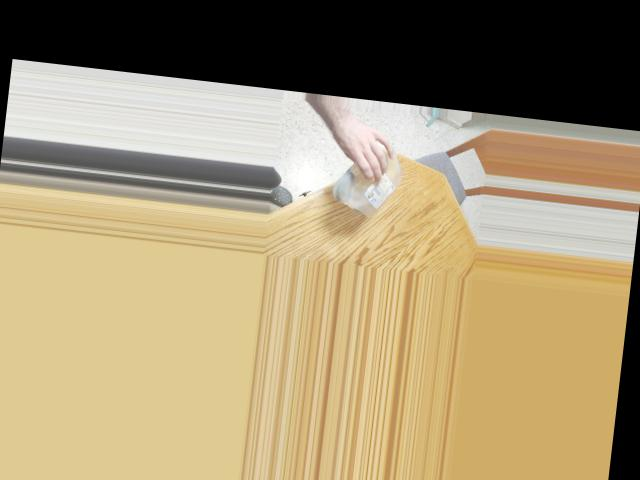cheese: (335, 132, 408, 218)
